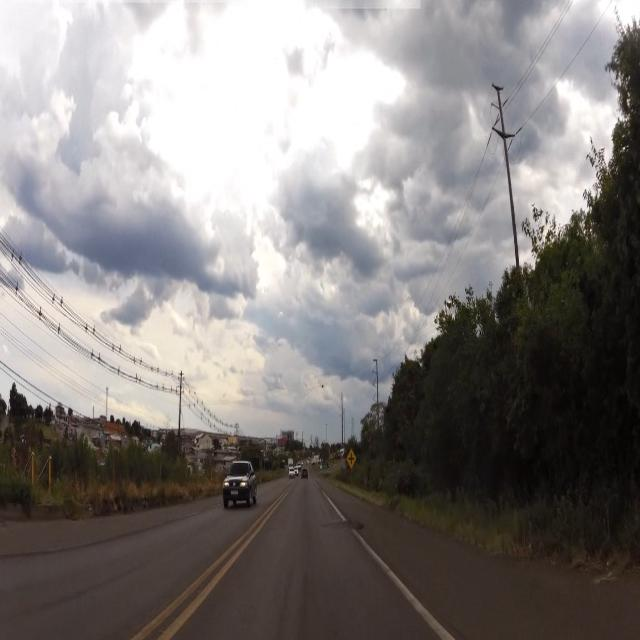A-6: (346, 450, 358, 470)
